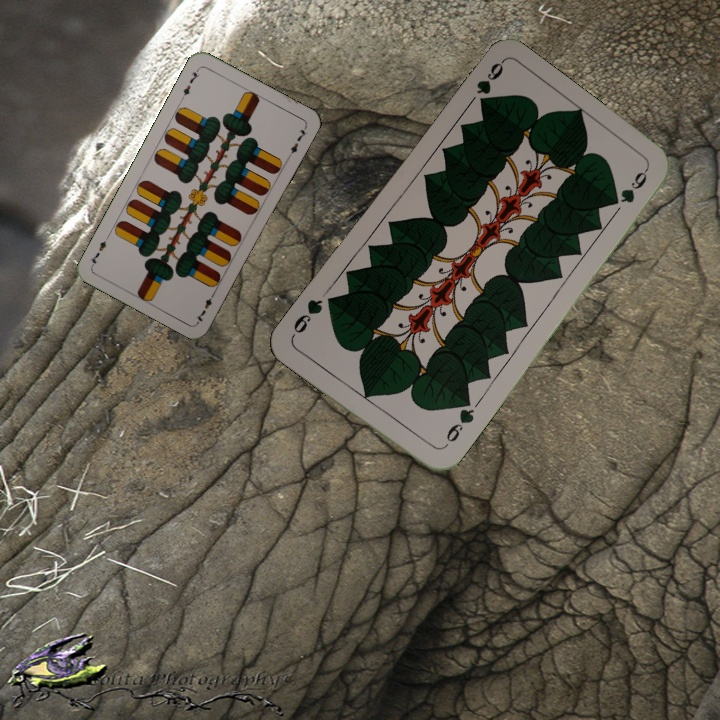E7: (191, 287, 218, 325), (177, 64, 202, 102)
G9: (442, 397, 477, 445), (472, 58, 506, 97)
